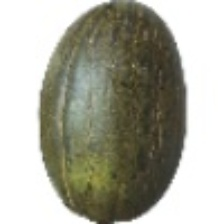honeydew: (26, 54, 186, 193)
